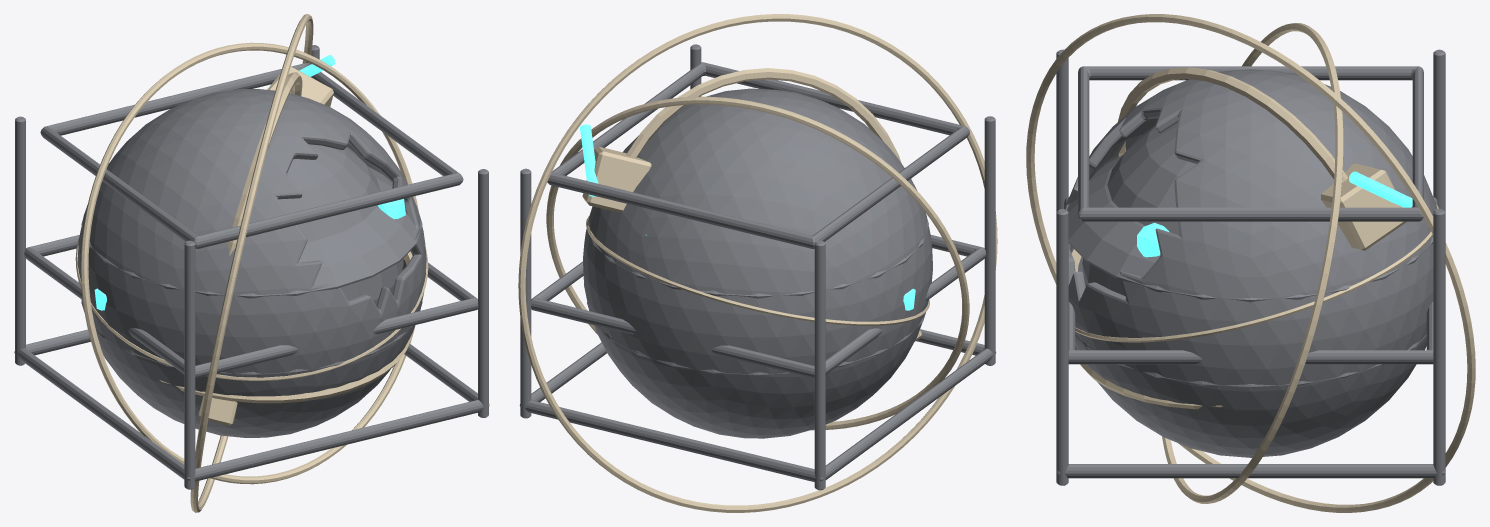
The model's file is taha-research-universe-signature-v1.glb.
The picture shows the model from 3 angles, left to right: view 1: azimuth 30°, elevation 25°; view 2: azimuth 150°, elevation 25°; view 3: azimuth 270°, elevation 25°; orthographic projection. The views are drawn at different scales.
Parts seen in each view (by area): view 1: Core_Shell, DASHBOARD_Shell, Core_Ring_A, VISPOL_Shell, PARS_SQL_Shell, Core_Ring_B, PARS_SQL_Accent, Core_Accent; view 2: Core_Shell, DASHBOARD_Shell, Core_Ring_B, Core_Ring_A, Core_Accent, PARS_SQL_Accent, VISPOL_Shell; view 3: Core_Shell, DASHBOARD_Shell, Core_Ring_B, VISPOL_Shell, Core_Accent, PARS_SQL_Shell, Core_Ring_A, PARS_SQL_Accent.
Boxes of the visible parts, x1,y1,x2,y2 form: Core_Shell: (77, 89, 426, 437); DASHBOARD_Shell: (14, 45, 489, 489); Core_Ring_A: (80, 42, 418, 484); VISPOL_Shell: (81, 166, 422, 375); PARS_SQL_Shell: (278, 144, 403, 305); Core_Ring_B: (190, 14, 313, 512); PARS_SQL_Accent: (159, 72, 411, 403); Core_Accent: (75, 55, 428, 425); Core_Shell: (583, 88, 932, 438); DASHBOARD_Shell: (519, 44, 996, 490); Core_Ring_B: (518, 14, 997, 512); Core_Ring_A: (546, 96, 969, 430); Core_Accent: (580, 124, 929, 341); PARS_SQL_Accent: (626, 68, 901, 162); VISPOL_Shell: (587, 206, 928, 376); Core_Shell: (1065, 69, 1436, 457); DASHBOARD_Shell: (1056, 49, 1445, 485); Core_Ring_B: (1026, 14, 1475, 512); VISPOL_Shell: (1065, 156, 1433, 388); Core_Accent: (1075, 163, 1438, 342); PARS_SQL_Shell: (1082, 122, 1196, 295); Core_Ring_A: (1162, 23, 1343, 503); PARS_SQL_Accent: (1075, 67, 1347, 409).
Bounding box in the file's own units: 1.24 × 1.44 × 1.16.
